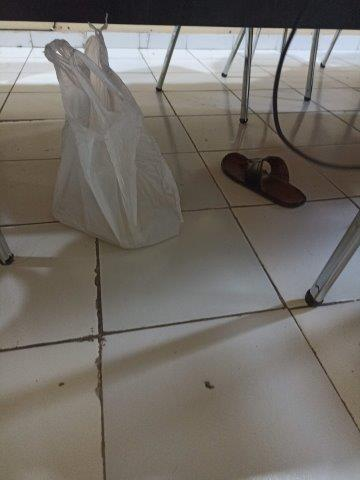plastik: (43, 34, 184, 249)
